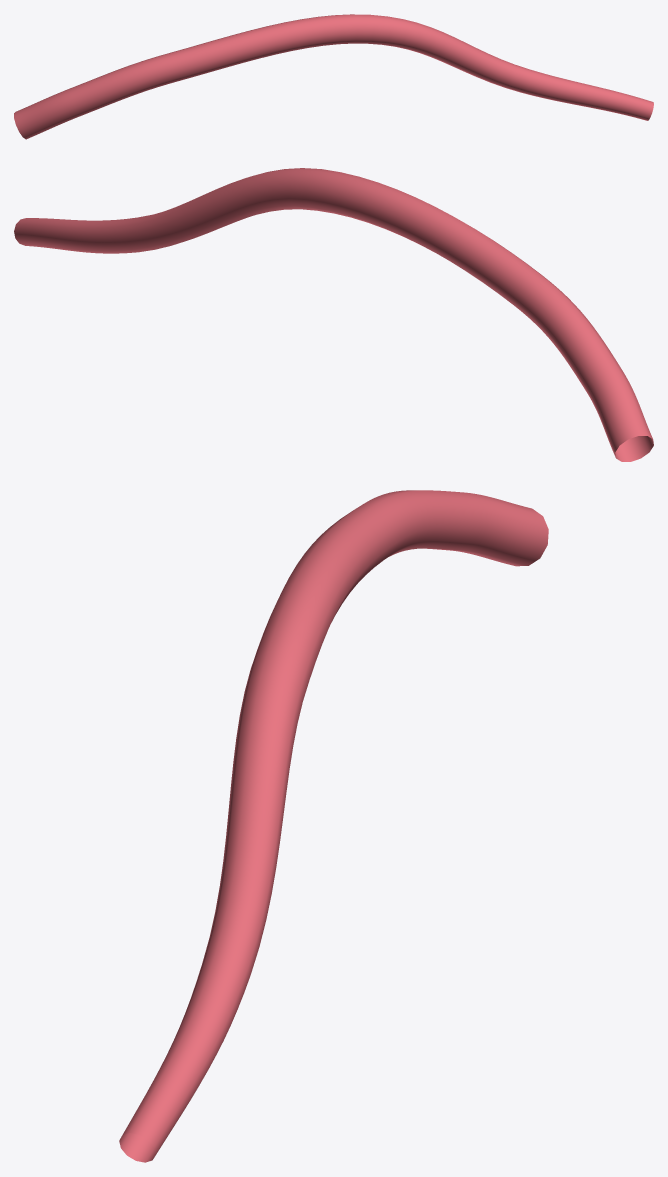
The picture shows the model from 3 angles, top to bottom: view 1: azimuth 30°, elevation 25°; view 2: azimuth 150°, elevation 25°; view 3: azimuth 270°, elevation 25°; orthographic projection. The views are drawn at different scales.
Visible parts, largest first — view 1: ZA_e5cae1842660efb2; view 2: ZA_e5cae1842660efb2; view 3: ZA_e5cae1842660efb2.
Part boxes in pixels (x1=…): ZA_e5cae1842660efb2: x1=14, y1=14, x2=653, y2=139; ZA_e5cae1842660efb2: x1=14, y1=168, x2=653, y2=461; ZA_e5cae1842660efb2: x1=119, y1=490, x2=548, y2=1162.
Size of the model in its own units: 0.0252 by 0.0063 by 0.00858.
